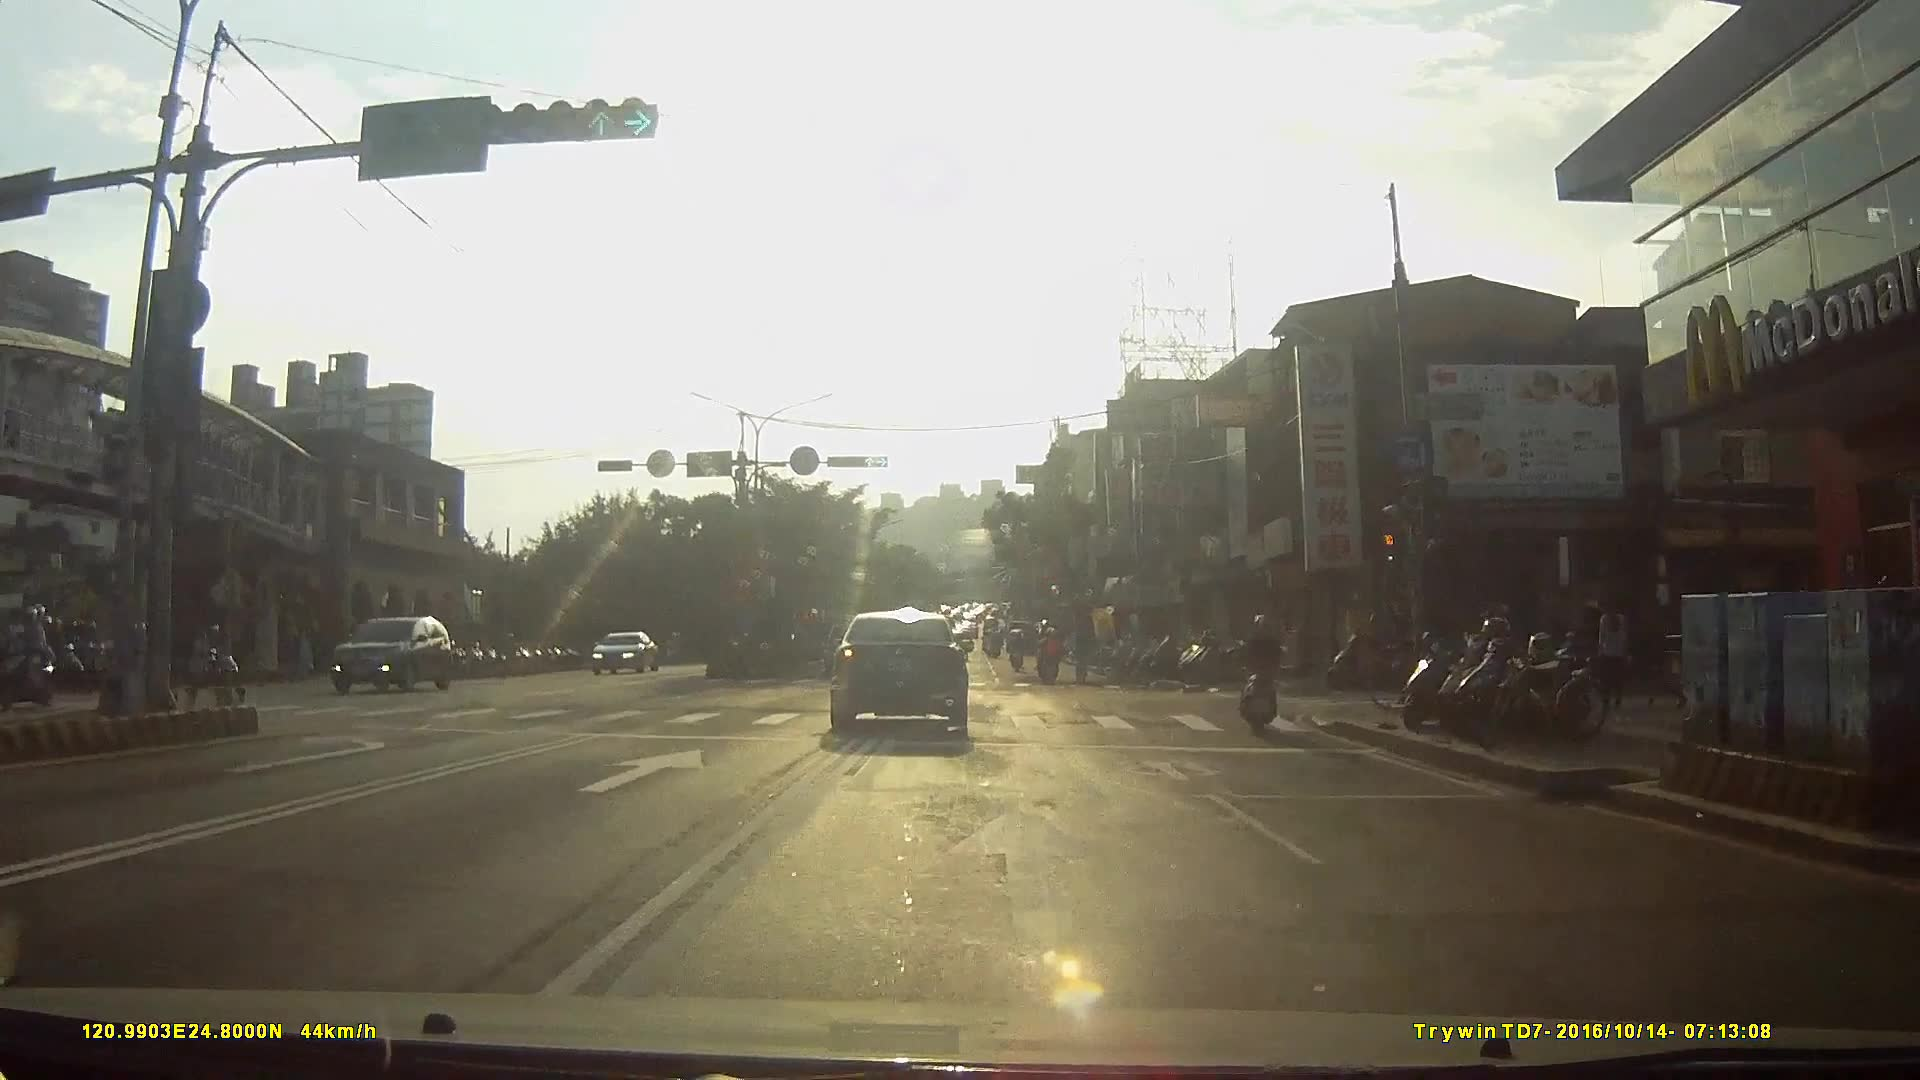pedestrian: (1596, 595, 1634, 701)
rider: (1239, 616, 1293, 735), (1, 607, 61, 709), (28, 616, 87, 695), (1036, 630, 1064, 691), (1006, 634, 1027, 679)
vehicle: (828, 608, 982, 747), (328, 616, 460, 694), (590, 632, 661, 682)
